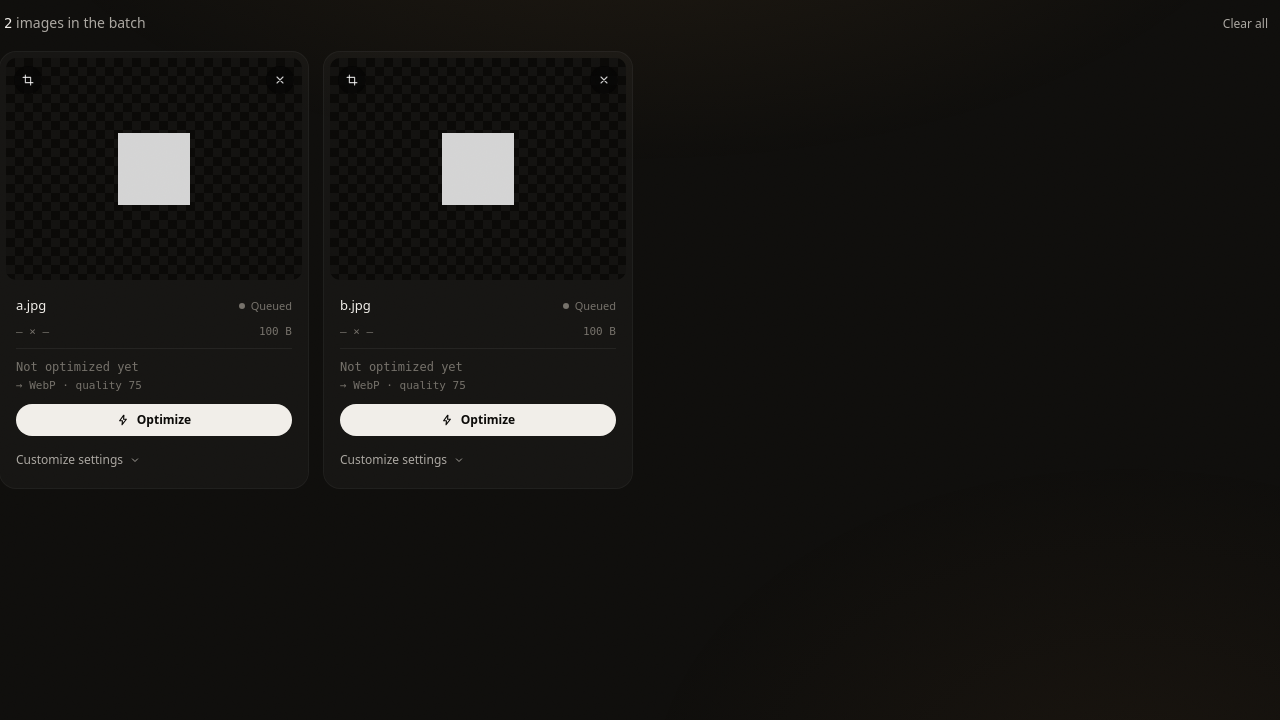
ImageGrid › empties the grid when Clear all is activated
Click the button "Clear all" at (1245, 24), box [1215,12,1276,36]
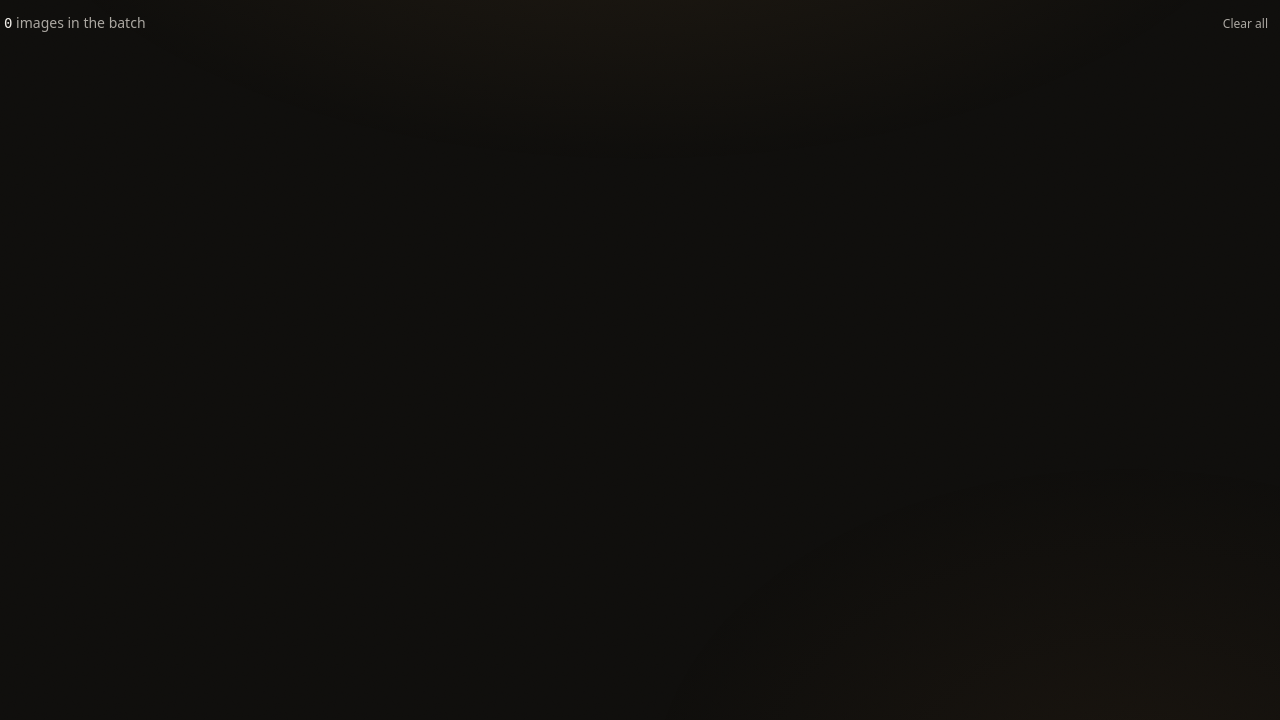
expect no list items with test id "image-card" are shown: met
